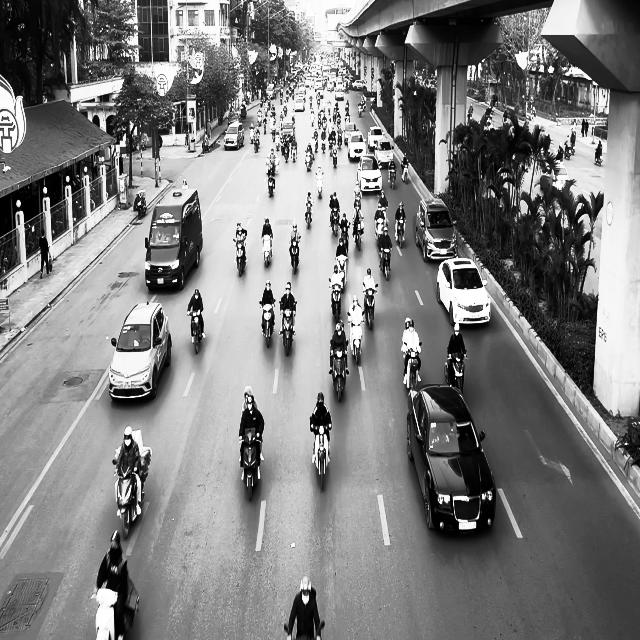car: (406, 382, 496, 535), (108, 301, 172, 401), (436, 257, 491, 327), (415, 198, 458, 262), (357, 155, 382, 193), (540, 163, 569, 193)
motorbike: (112, 442, 152, 539), (239, 433, 262, 501), (310, 421, 331, 491), (329, 346, 348, 402), (279, 300, 297, 356), (402, 341, 422, 390), (444, 352, 467, 394), (347, 313, 364, 364), (259, 300, 276, 348), (187, 307, 204, 353), (362, 284, 378, 329), (328, 277, 343, 322), (233, 234, 247, 276), (289, 237, 301, 274), (379, 246, 392, 280), (353, 216, 364, 252), (133, 189, 147, 217), (262, 234, 272, 267), (395, 218, 406, 248), (304, 202, 313, 229), (267, 169, 275, 197), (316, 172, 324, 198), (388, 168, 396, 189), (401, 161, 408, 183)
truck: (144, 187, 203, 291)
